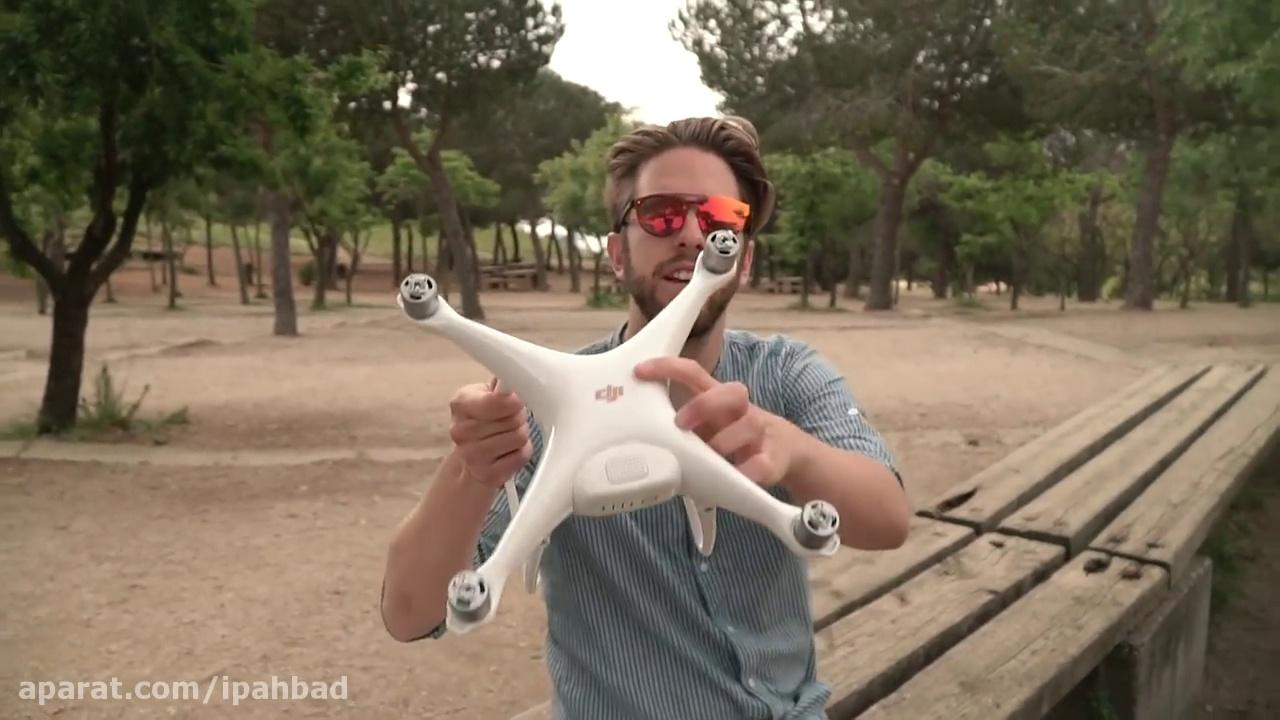drone: (394, 225, 844, 636)
